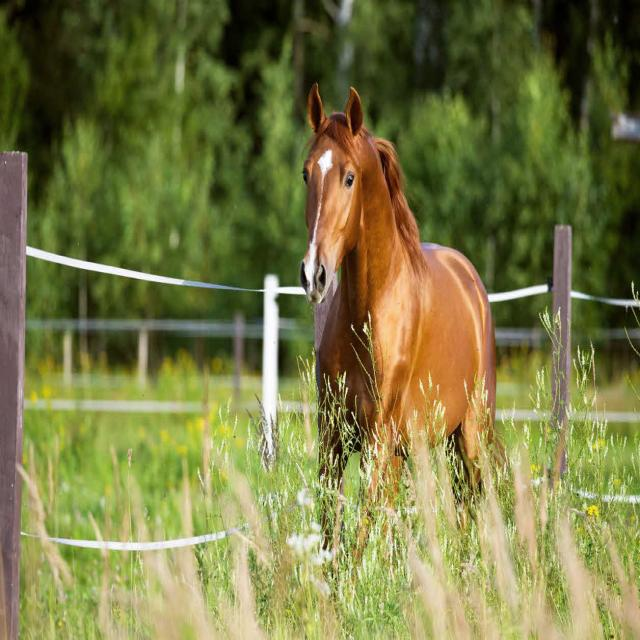horse: (300, 84, 506, 495)
